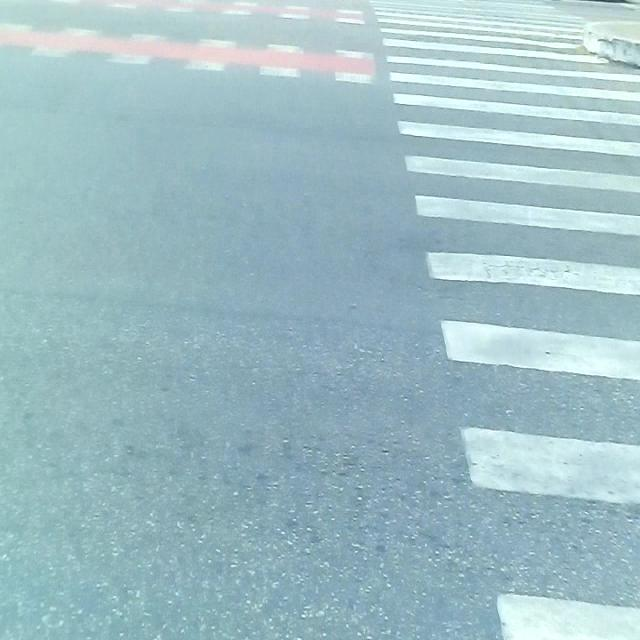crosswalk: (371, 0, 640, 640)
